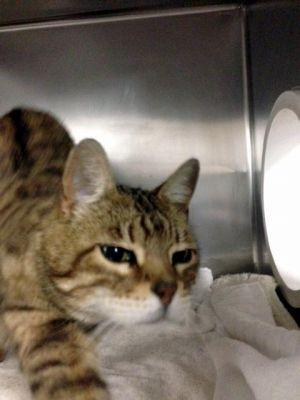bengal: (57, 136, 223, 341)
